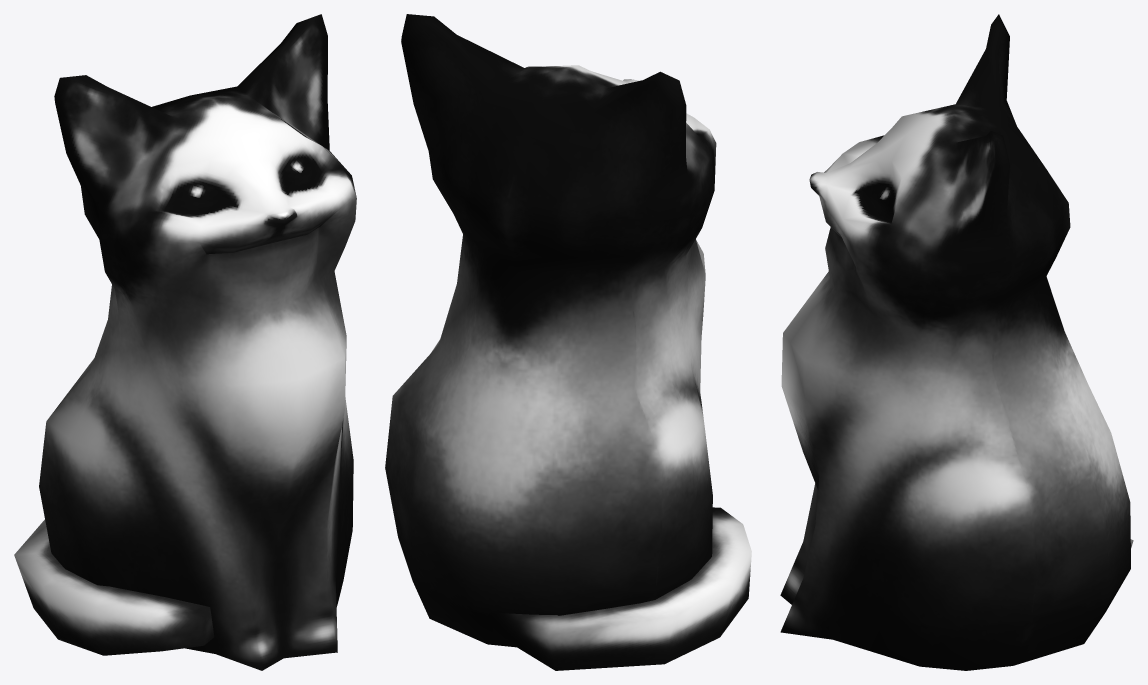
Rendered from PopCat.glb.
The picture shows the model from 3 angles, left to right: view 1: azimuth 30°, elevation 25°; view 2: azimuth 150°, elevation 25°; view 3: azimuth 270°, elevation 25°; orthographic projection. The views are drawn at different scales.
Visible parts, largest first — view 1: cat; view 2: cat; view 3: cat.
Part boxes in pixels (<box>): cat: <box>14,14,356,670</box>; cat: <box>385,14,751,670</box>; cat: <box>780,14,1133,670</box>.
Bounding box in the file's own units: 7.58 × 13 × 7.64.
Materials: 1 (1 with a texture image).
